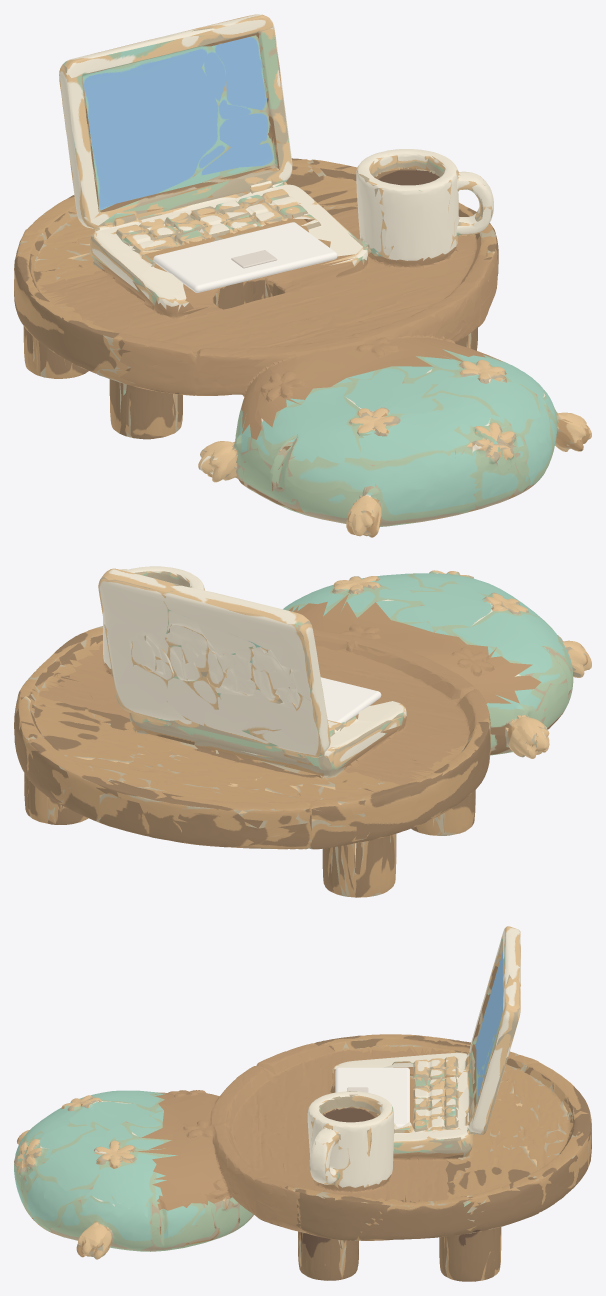
The model's file is round-laptop-workstation-noise-clean-v1.glb.
3 views of the same model, one above another, from view 1: azimuth 30°, elevation 25°; view 2: azimuth 150°, elevation 25°; view 3: azimuth 270°, elevation 25° (orthographic). The views are drawn at different scales.
Visible parts, largest first — view 1: round-laptop-workstation-flat-source-v4; view 2: round-laptop-workstation-flat-source-v4; view 3: round-laptop-workstation-flat-source-v4.
Boxes of the visible parts, x1,y1,x2,y2 form: round-laptop-workstation-flat-source-v4: (14, 14, 591, 537); round-laptop-workstation-flat-source-v4: (14, 566, 591, 897); round-laptop-workstation-flat-source-v4: (14, 926, 591, 1281).
Bounding box in the file's own units: 1.35 × 0.8513 × 1.9.
Materials: 4 (1 with a texture image).
